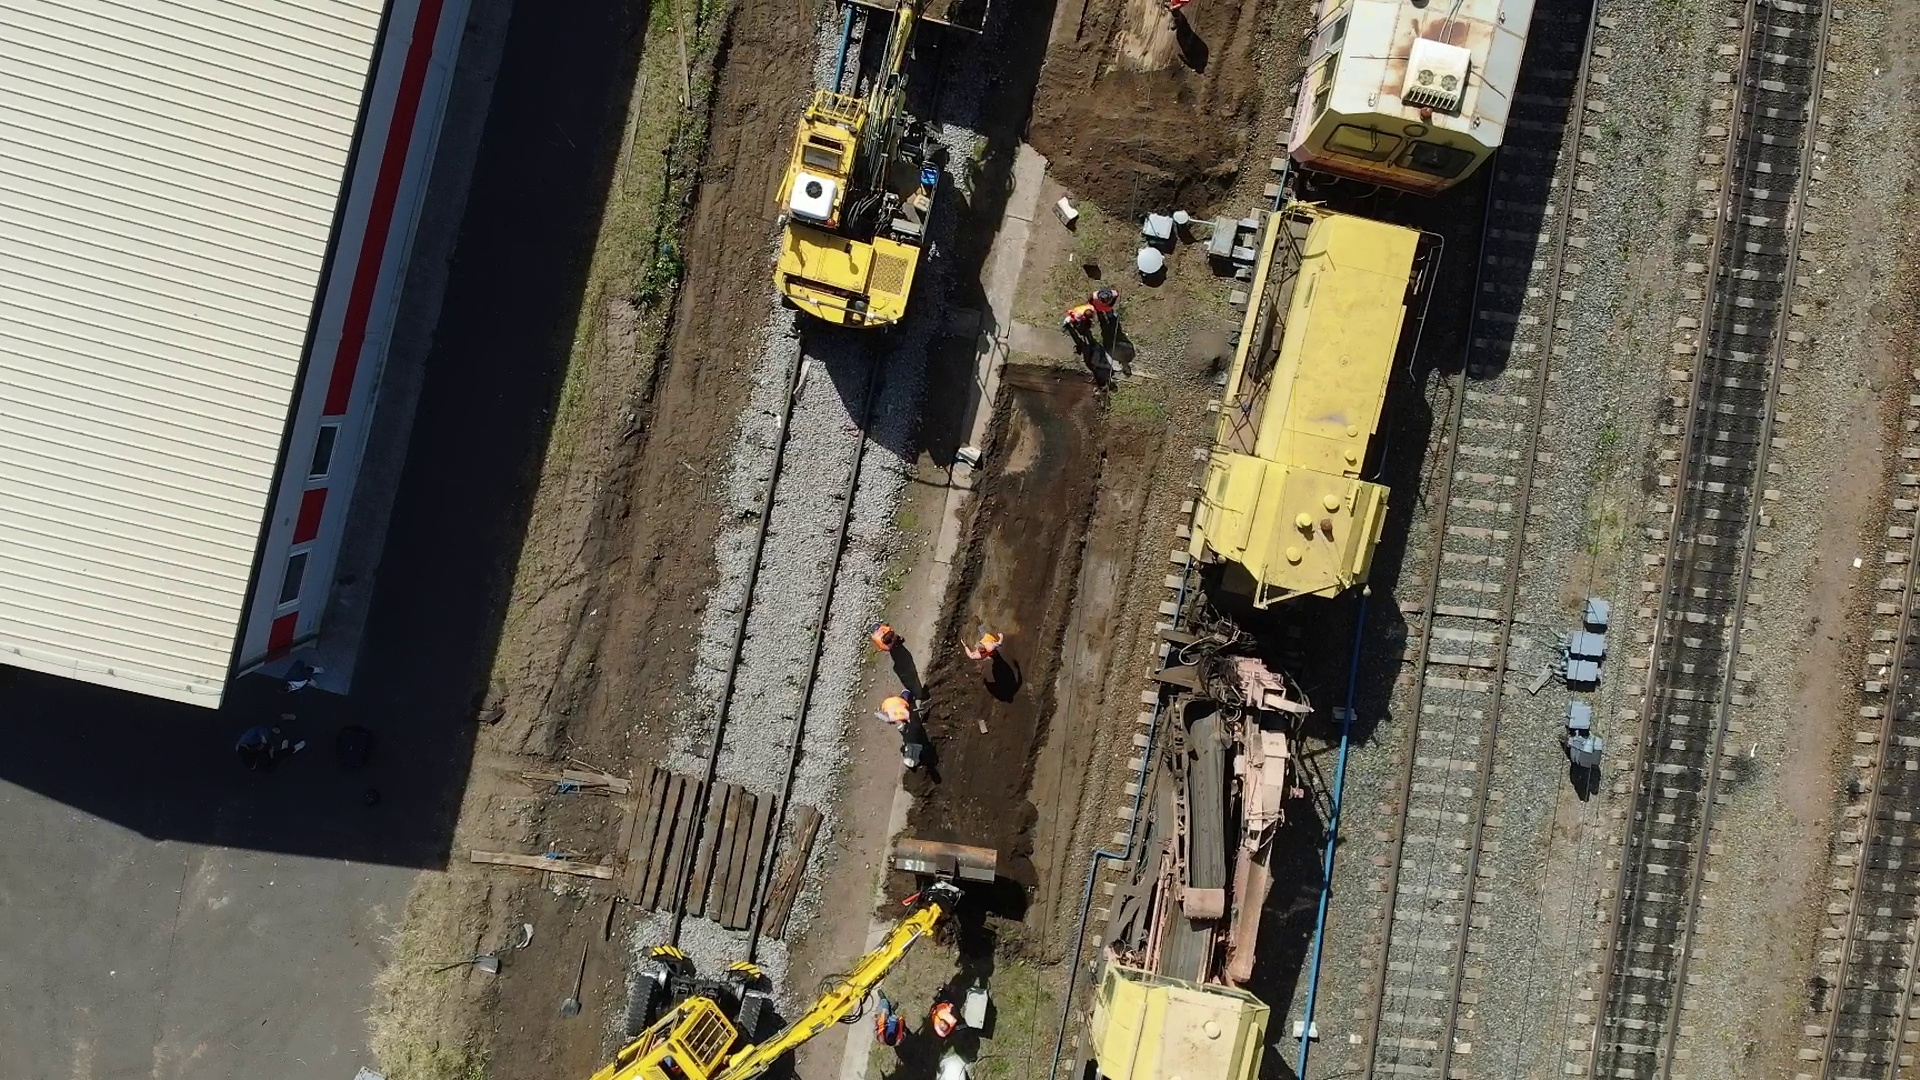kjtv: (785, 88, 947, 342), (611, 919, 799, 1080)
